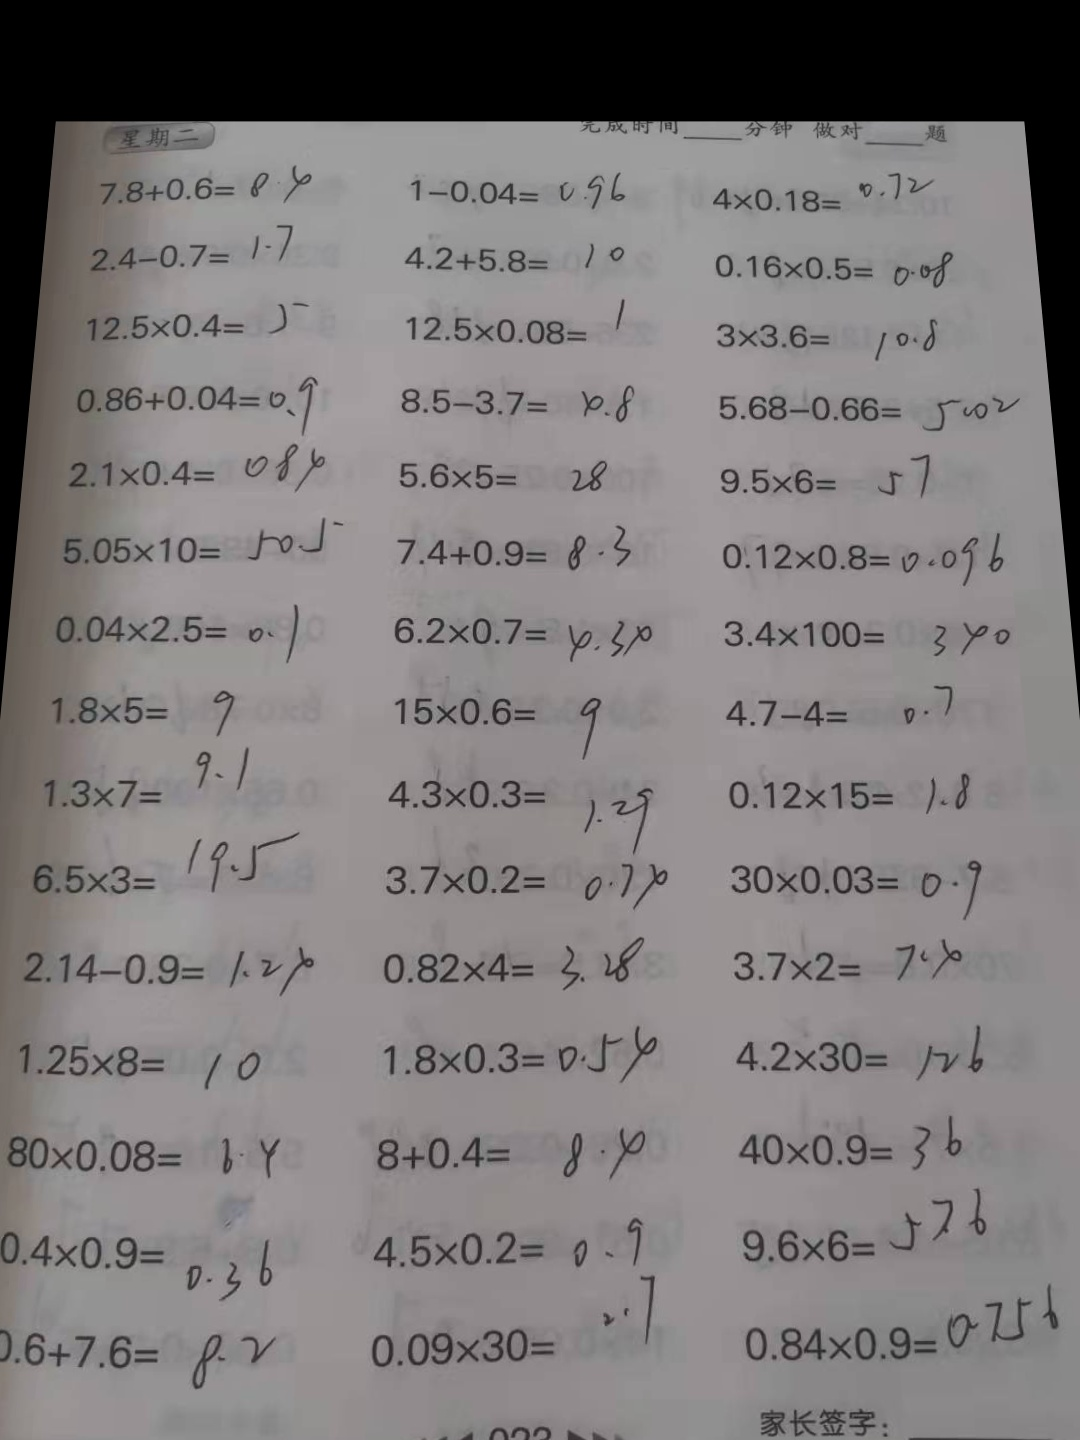equation: (735, 1273, 1074, 1369), (365, 1274, 670, 1372), (0, 1222, 286, 1312), (380, 766, 657, 856), (16, 923, 320, 1002), (380, 1017, 669, 1095), (734, 1175, 998, 1260), (0, 1116, 295, 1191), (714, 667, 969, 749), (0, 1320, 282, 1394), (704, 374, 1028, 438), (722, 852, 992, 925), (366, 1118, 663, 1185), (31, 827, 307, 898), (385, 681, 615, 766), (710, 530, 1020, 591), (71, 367, 324, 442), (385, 927, 651, 997), (363, 1209, 652, 1272), (378, 861, 684, 920), (710, 605, 1013, 664), (726, 1100, 972, 1171), (383, 602, 665, 663), (37, 745, 259, 821), (708, 159, 950, 228), (732, 1018, 999, 1081), (709, 441, 942, 511), (12, 1033, 271, 1095), (722, 757, 980, 819), (726, 927, 971, 990), (390, 517, 643, 577), (53, 601, 304, 661), (703, 237, 969, 294), (65, 511, 343, 564), (400, 290, 636, 351), (74, 294, 315, 351), (64, 444, 331, 497), (88, 218, 303, 282), (393, 373, 641, 427), (44, 676, 247, 742), (706, 314, 961, 366), (96, 159, 315, 209), (408, 166, 643, 211), (400, 238, 634, 283), (393, 454, 611, 501)
